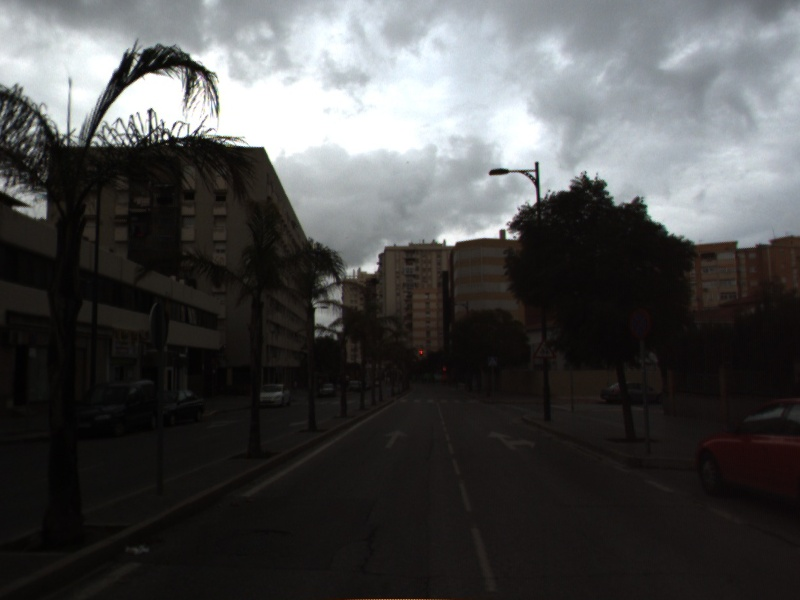STRAIGHT: (382, 428, 410, 451)
STRAIGHT_RIGHT: (485, 429, 537, 452)
